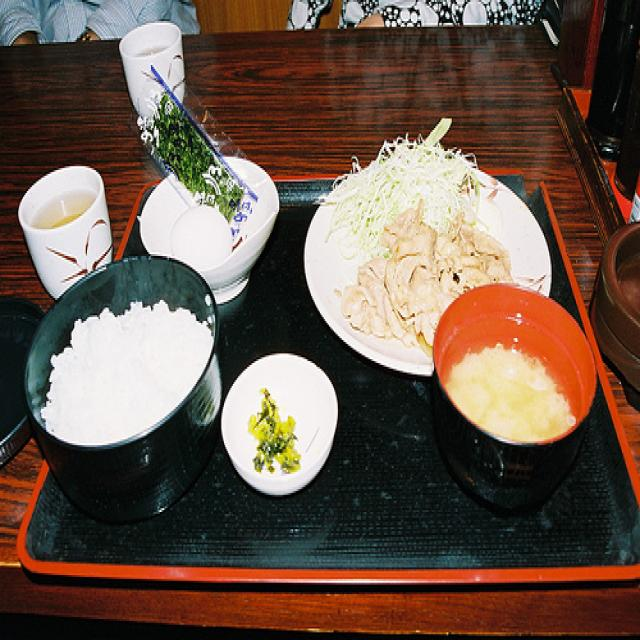汤锅炖物: (431, 277, 608, 445)
猪肉菜式: (340, 227, 521, 338)
米饭主食: (14, 258, 230, 502)
蔬菜料理: (332, 132, 497, 250)
